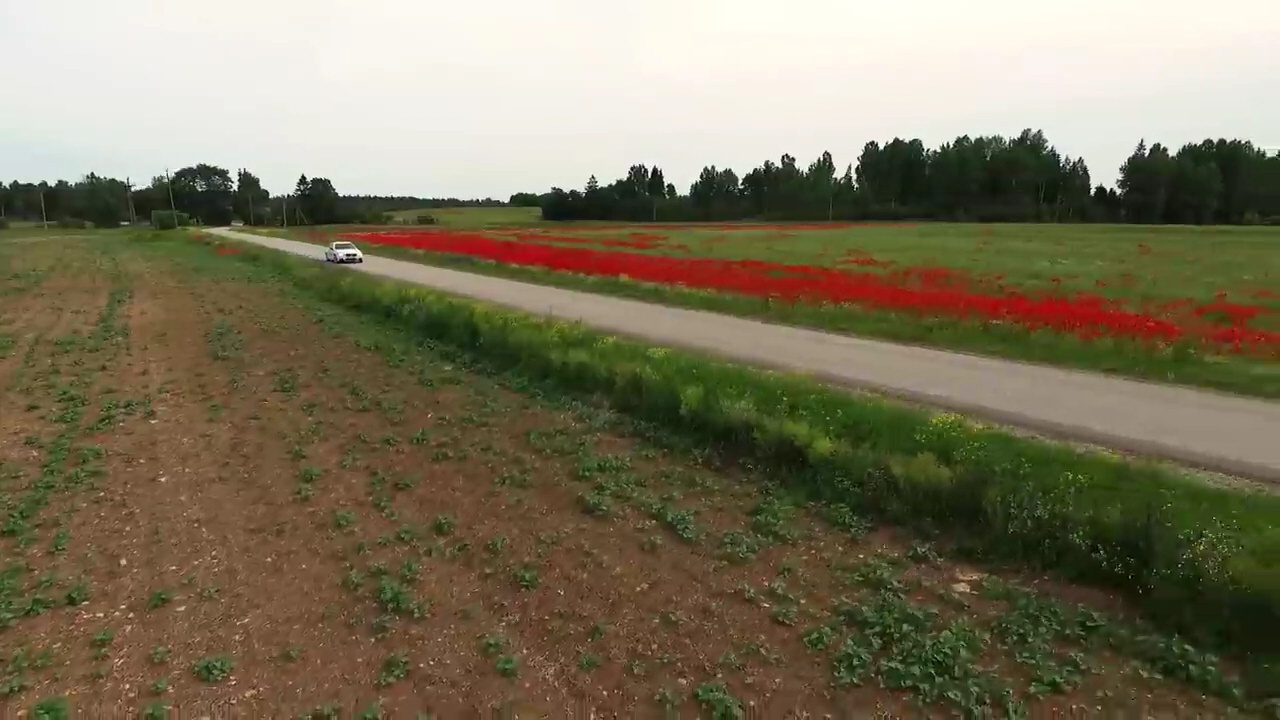araba: (323, 239, 365, 269)
